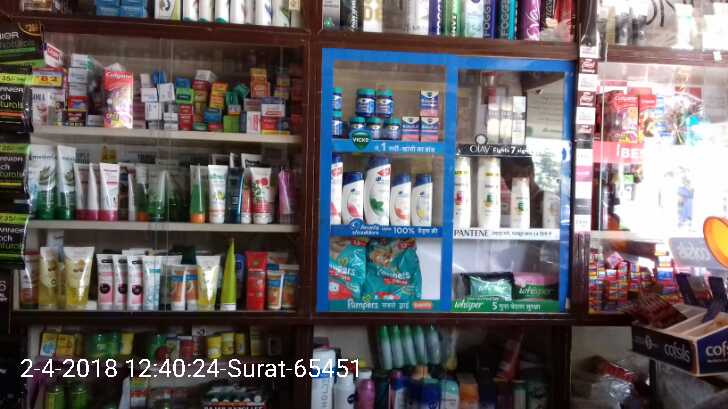vicks: (421, 89, 442, 116), (355, 87, 375, 114), (375, 89, 394, 114), (402, 117, 422, 140), (422, 117, 438, 143), (350, 117, 368, 140), (385, 117, 402, 140), (368, 117, 385, 140), (329, 110, 344, 136), (332, 87, 344, 109)
